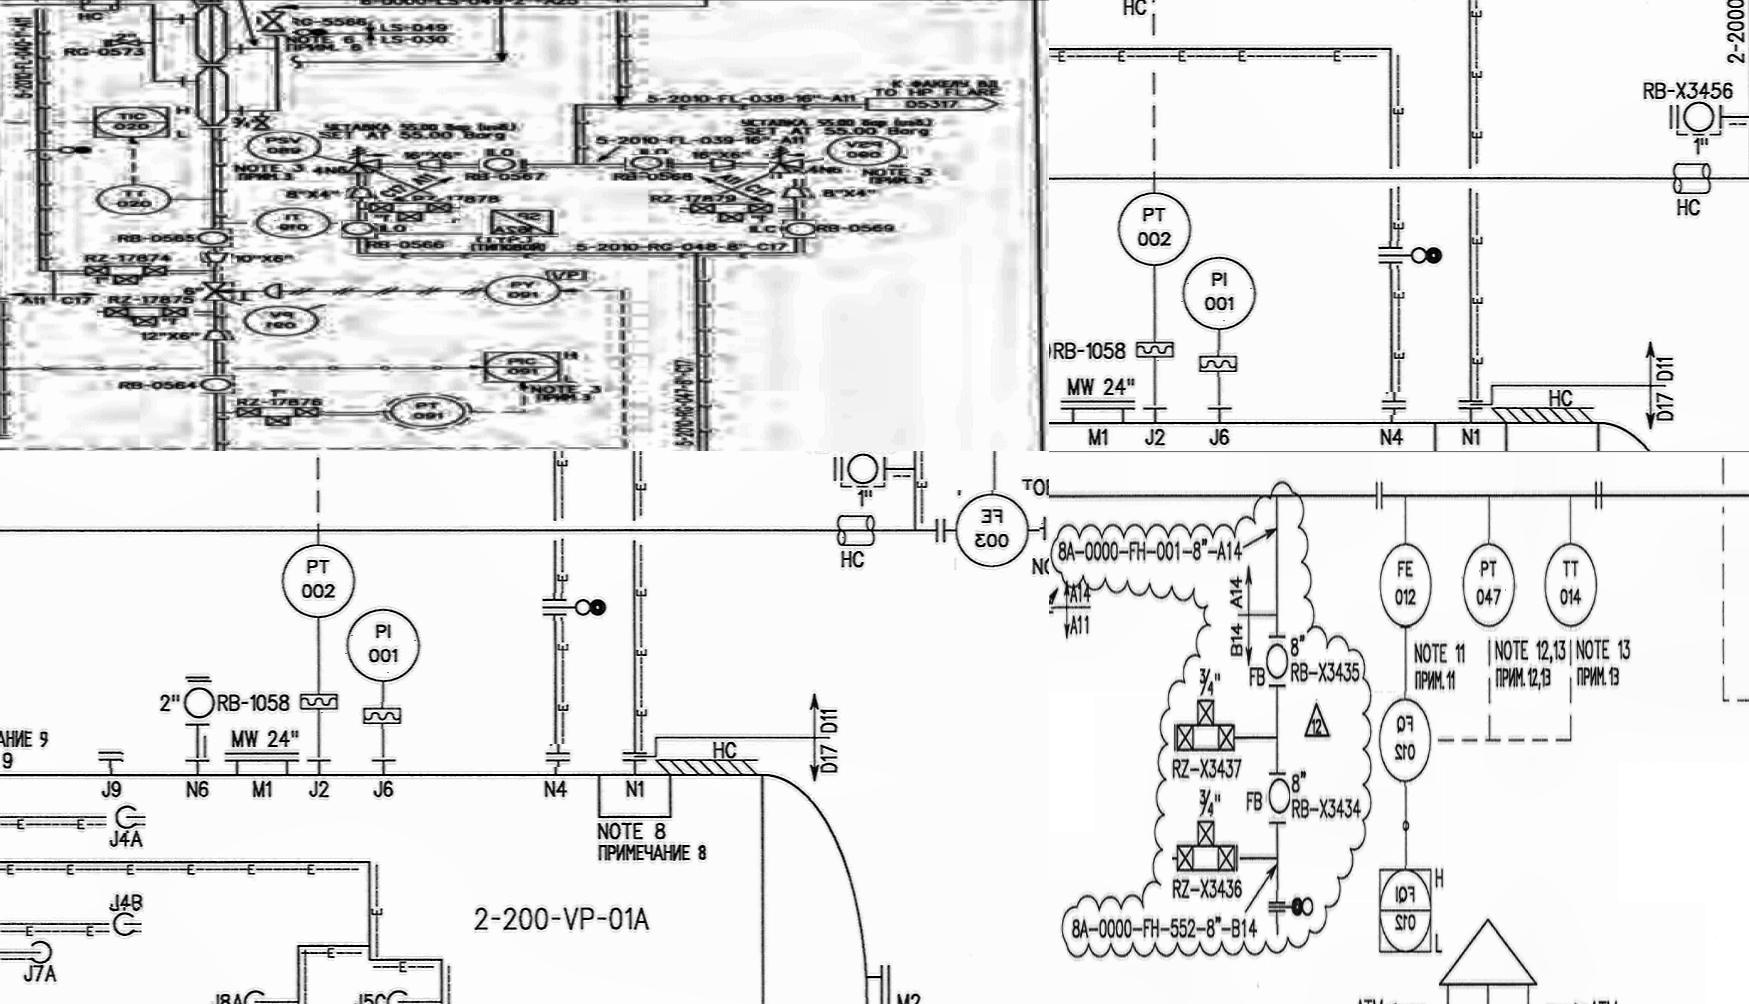2 WAY VALVE: (97, 305, 195, 329), (679, 202, 777, 225), (370, 201, 464, 223), (232, 406, 324, 428), (84, 265, 174, 287)
ANGLE RELIEF VALVE: (336, 147, 393, 174), (770, 144, 807, 179)
BLIND SPADE OPEN: (29, 143, 101, 156)
CONCENTRIC REDUCER: (201, 251, 232, 268), (416, 157, 447, 173), (346, 186, 375, 203), (706, 157, 742, 171), (778, 186, 814, 199)
CONNECTOR: (107, 801, 147, 833), (24, 934, 59, 967), (109, 907, 141, 940), (382, 986, 412, 1004), (239, 985, 265, 1004)
DCS ACCESSIBLE: (470, 348, 577, 387), (85, 101, 185, 141)
DIAPHRAGM SEAL: (1130, 337, 1178, 367), (1193, 351, 1244, 378), (357, 703, 408, 730), (294, 691, 342, 719)
DUPLEX RECEPTACLE: (1670, 155, 1717, 198), (834, 507, 881, 550), (66, 0, 130, 13)
END CAP: (257, 282, 287, 301)
END FLANGED: (1371, 392, 1414, 416), (535, 745, 578, 767), (97, 747, 123, 769), (1039, 515, 1049, 548)
FIELD INSTRUMENT: (954, 490, 1032, 570), (1116, 189, 1192, 268), (280, 540, 356, 620), (1181, 253, 1256, 329), (345, 606, 420, 681), (376, 392, 478, 432), (88, 180, 178, 219), (243, 305, 329, 340), (249, 205, 341, 238), (476, 275, 562, 307), (824, 136, 907, 168), (240, 132, 328, 161), (1677, 95, 1723, 138), (840, 452, 887, 490), (180, 680, 216, 721), (626, 154, 673, 175), (196, 227, 237, 246), (480, 157, 526, 173), (190, 376, 233, 392), (342, 221, 377, 239), (782, 219, 814, 237)
GATE VALVE: (196, 279, 235, 304), (258, 8, 296, 32), (247, 112, 282, 132), (101, 37, 147, 47)
IP CONVERTER: (539, 268, 586, 281)
SPECIAL PIPING ITEM: (484, 205, 560, 238)
SPECTACLE BLIND OPEN: (1377, 241, 1457, 269), (541, 593, 621, 621), (270, 26, 341, 37)
